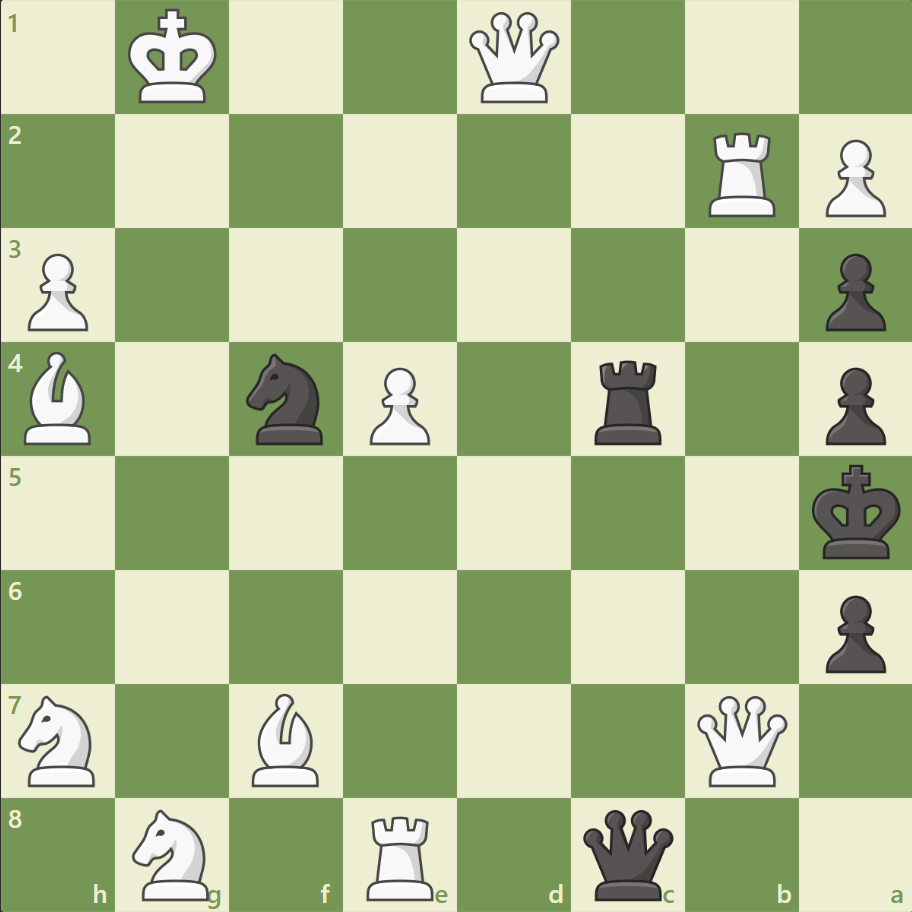B: (244, 687, 328, 790), (17, 347, 101, 449)
K: (124, 4, 224, 112)
N: (124, 802, 222, 904), (11, 688, 108, 791)
P: (20, 246, 95, 337), (361, 359, 435, 450), (815, 132, 889, 223)
Q: (691, 690, 790, 789), (464, 9, 563, 108)
R: (700, 125, 783, 222), (360, 806, 442, 904)
k: (806, 458, 906, 566)
n: (238, 348, 335, 450)
p: (815, 586, 889, 677), (815, 359, 889, 450), (815, 246, 889, 337)
q: (578, 804, 677, 903)
r: (587, 352, 670, 449)
